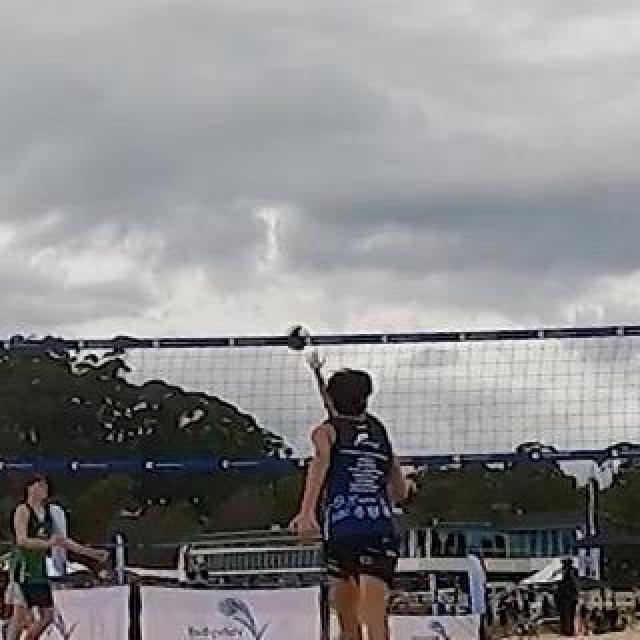volleyball: (286, 327, 308, 353)
